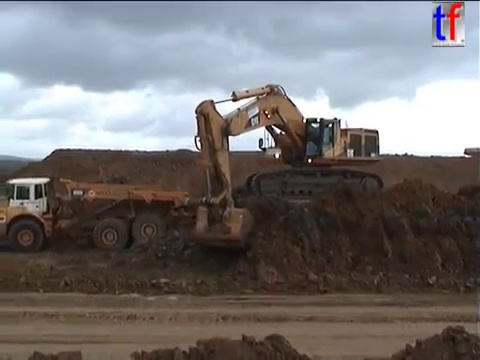excavator: (191, 82, 386, 251)
truck: (1, 174, 200, 254), (462, 146, 480, 168)
